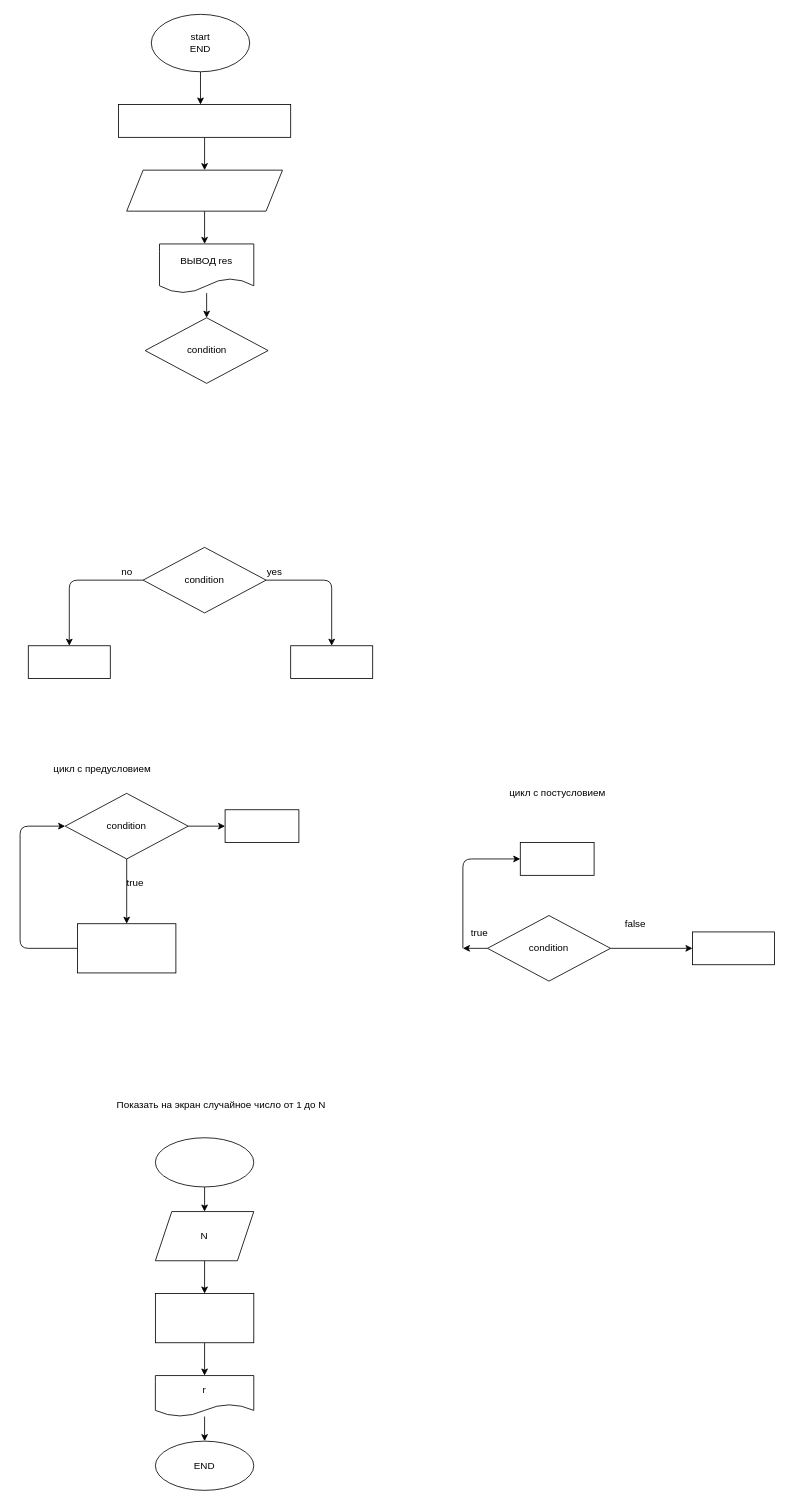
The diagram is 789 pixels wide and 1505 high, and some of its shapes have lost their labels. Here are the shapes that lost their labels. From the top down, the centre of each, then its label:
At pixel 204 120: "count = 0 res = 1* Sqrt(2)".
At pixel 204 190: "ВВОД count".
At pixel 204 1162: "start".
At pixel 204 1318: "r = random(1, N)".
